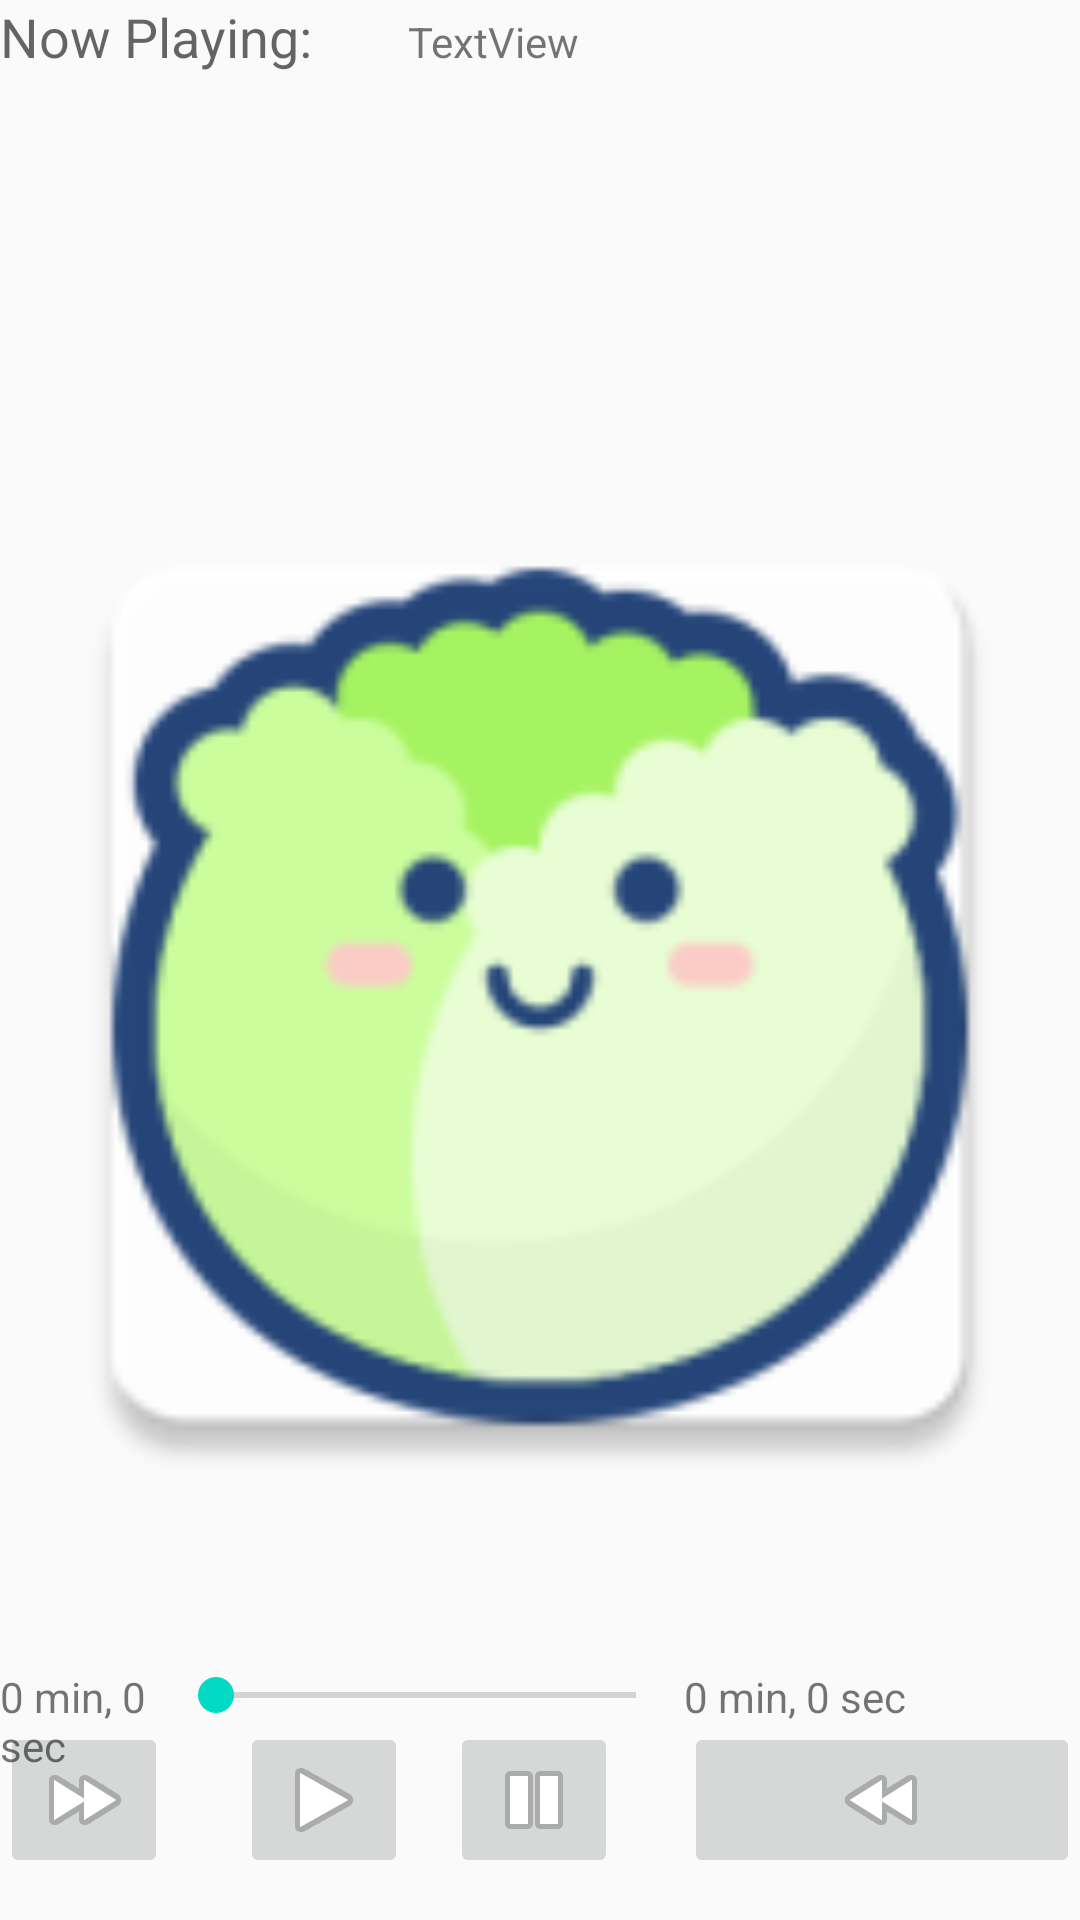

Screen size 1080x1920. Icon name, then its box in pixels as (x1, y1, x2, y2):
pause: (462, 1740, 606, 1860)
play: (252, 1740, 396, 1860)
